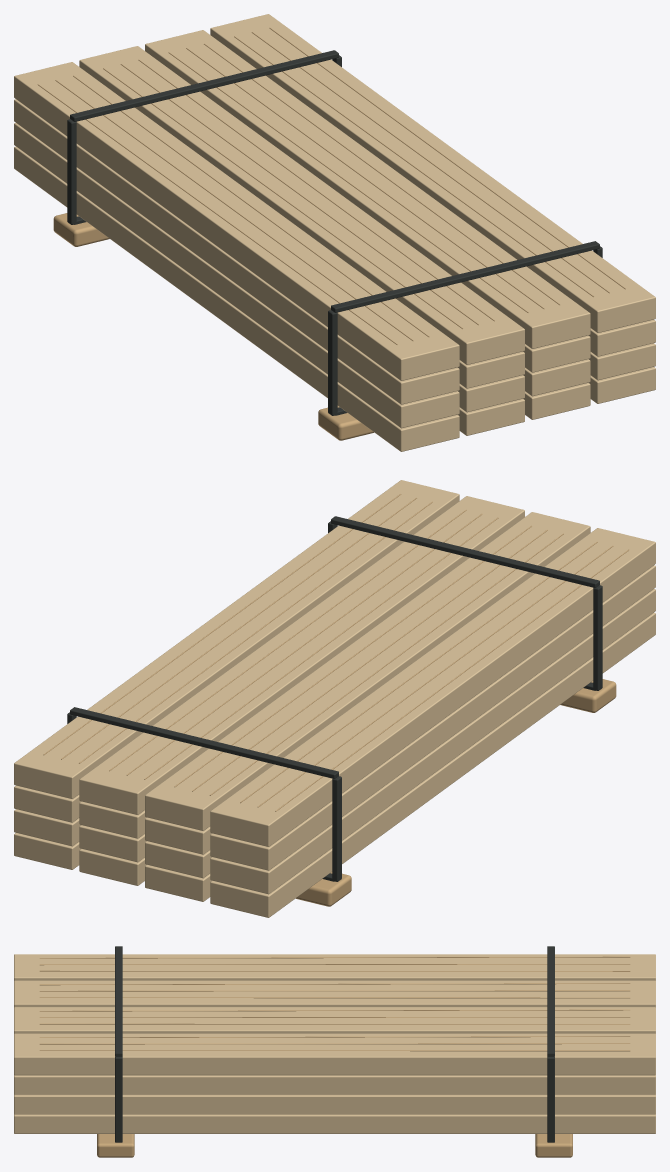
The model's file is sawmill-and-timber-yard-banded-timber-bundle-50402c3e__31199.glb.
3 views of the same model, one above another, from view 1: azimuth 30°, elevation 25°; view 2: azimuth 150°, elevation 25°; view 3: azimuth 270°, elevation 25° (orthographic). The views are drawn at different scales.
Parts seen in each view (by area): view 1: banded-timber-bundle; view 2: banded-timber-bundle; view 3: banded-timber-bundle.
Boxes of the visible parts, <box> form: banded-timber-bundle: <box>14,14,655,451</box>; banded-timber-bundle: <box>14,480,655,917</box>; banded-timber-bundle: <box>14,946,655,1157</box>.
Bounding box in the file's own units: 0.8501 × 0.3629 × 2.05.
